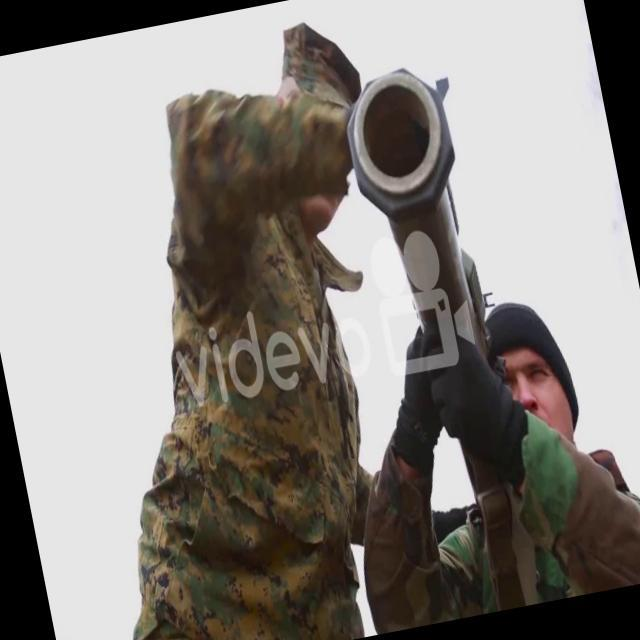rocket: (338, 60, 494, 366)
